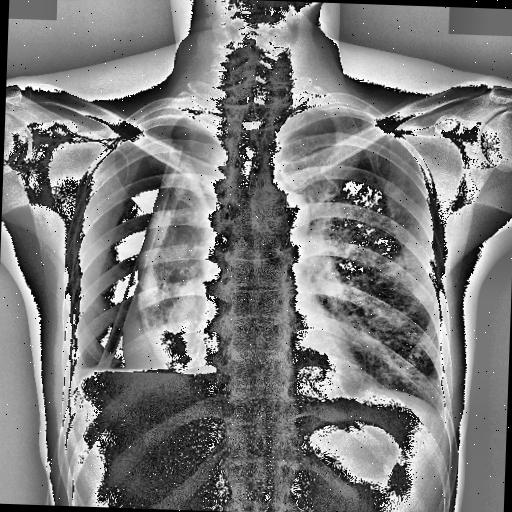10- Pleural effusion: (72, 366, 220, 410), (63, 368, 195, 415), (68, 356, 92, 388)
11- Pleural thickening: (315, 100, 376, 116), (68, 356, 92, 388)
12- Pneumothorax: (72, 109, 228, 372), (76, 112, 200, 371), (66, 104, 164, 372)
13- Pulmonary fibrosis: (125, 266, 204, 372)
4- Consolidation: (120, 151, 212, 375)
5- ILD: (324, 174, 448, 398), (306, 208, 445, 398), (326, 227, 444, 399)
7- Lung Opacity: (120, 151, 212, 375), (125, 266, 204, 372), (188, 128, 201, 148)
9- Other lesion: (326, 227, 444, 399)
